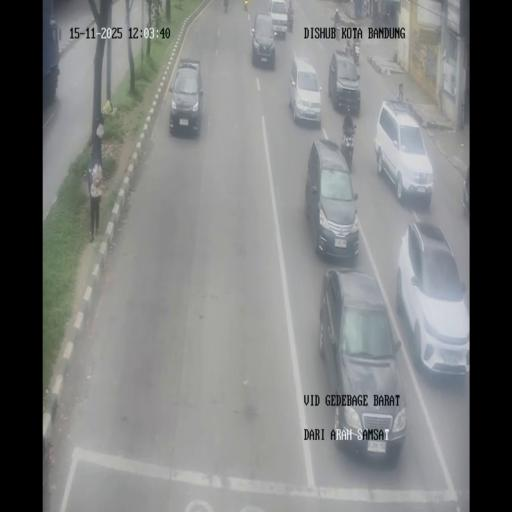3: (41, 1, 60, 106)
car: (320, 269, 405, 459), (396, 222, 470, 378), (305, 139, 358, 262), (374, 99, 434, 205), (169, 58, 203, 136), (288, 52, 322, 126), (328, 49, 361, 115), (268, 0, 289, 38), (462, 160, 470, 221)
truck: (340, 125, 356, 170), (352, 43, 360, 66), (286, 10, 294, 33), (335, 22, 342, 42), (345, 38, 352, 56), (362, 0, 369, 18), (385, 10, 391, 27), (223, 0, 229, 13), (242, 0, 247, 10)
